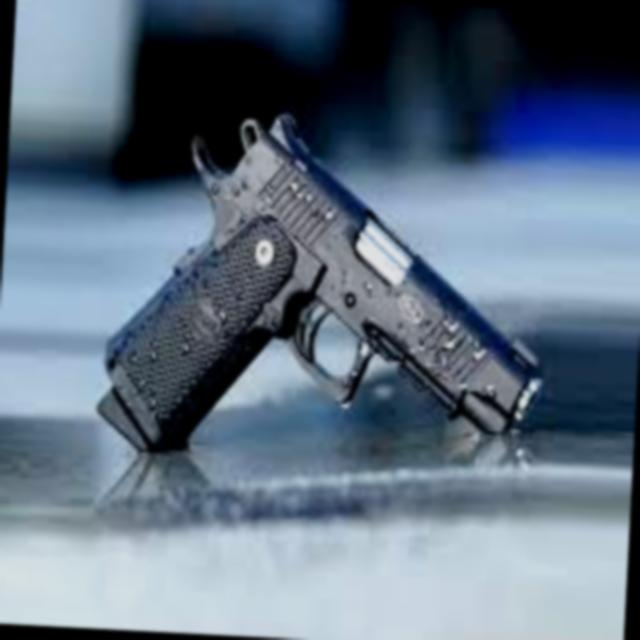semi automatic: (79, 80, 578, 530)
